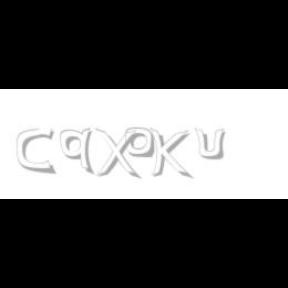C: (16, 128, 54, 174)
K: (149, 128, 189, 180)
X: (94, 128, 138, 180)
o: (126, 128, 154, 158)
q: (60, 128, 96, 176)
u: (195, 128, 230, 160)
